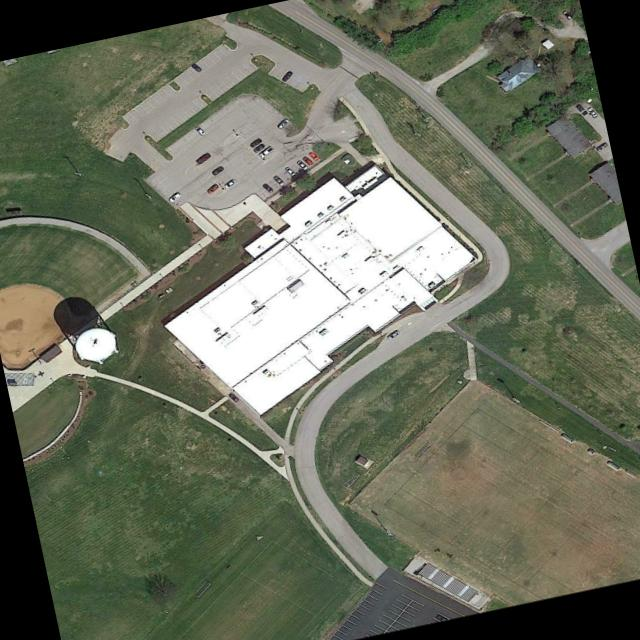large-vehicle: (259, 145, 274, 158)
small-vehicle: (196, 152, 212, 164), (280, 70, 294, 83), (575, 102, 588, 116), (168, 191, 182, 203), (206, 182, 218, 195), (273, 175, 286, 187), (387, 328, 400, 340), (194, 124, 206, 136), (297, 159, 309, 171), (262, 182, 274, 194), (227, 391, 239, 403), (253, 142, 266, 153), (211, 165, 224, 176), (249, 137, 262, 148), (595, 141, 608, 152), (224, 178, 236, 189), (278, 118, 289, 129), (587, 106, 598, 117), (191, 62, 202, 73), (284, 166, 296, 176), (308, 151, 319, 161), (302, 156, 313, 166), (563, 9, 571, 19)
storage-tank: (73, 325, 119, 367)
